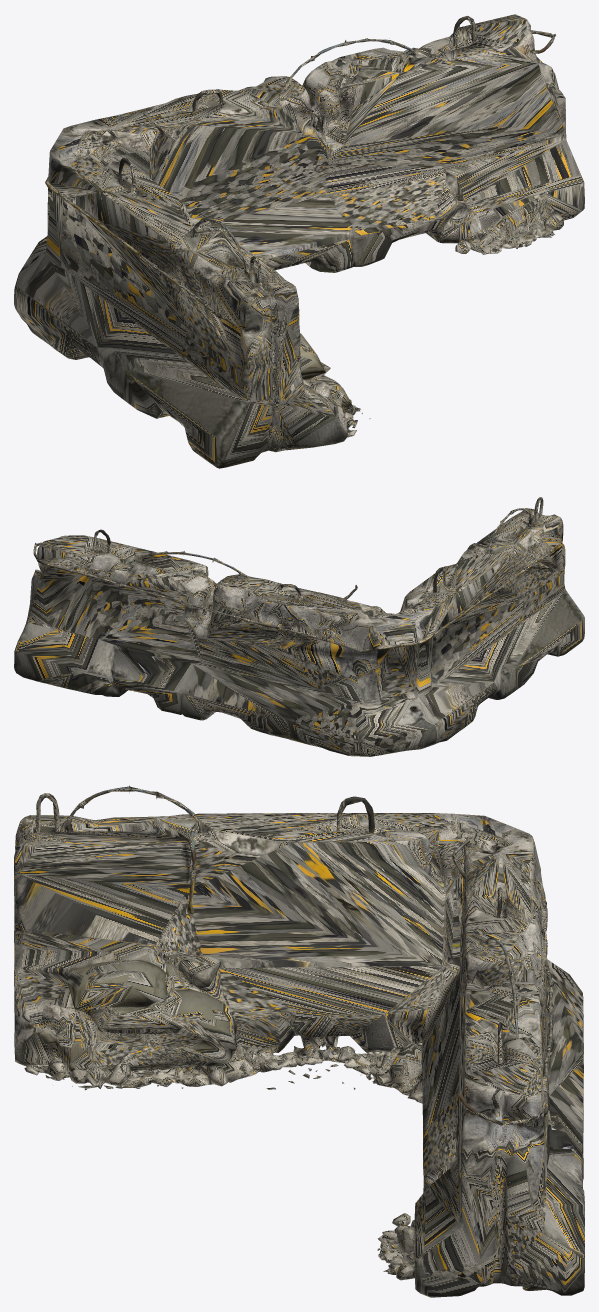
Rendered from road_barrier.glb.
The picture shows the model from 3 angles, top to bottom: view 1: azimuth 30°, elevation 25°; view 2: azimuth 150°, elevation 25°; view 3: azimuth 270°, elevation 25°; orthographic projection. The views are drawn at different scales.
Parts seen in each view (by area): view 1: road_barrier; view 2: road_barrier; view 3: road_barrier.
Part boxes in pixels (x1=…): road_barrier: x1=14, y1=14, x2=584, y2=468; road_barrier: x1=14, y1=497, x2=584, y2=756; road_barrier: x1=14, y1=785, x2=584, y2=1297.
Bounding box in the file's own units: 1.89 × 0.6862 × 1.47.
1 material, 1 textured.
